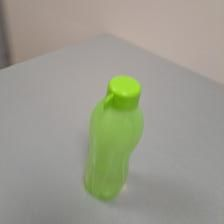bottle: (76, 73, 145, 201)
